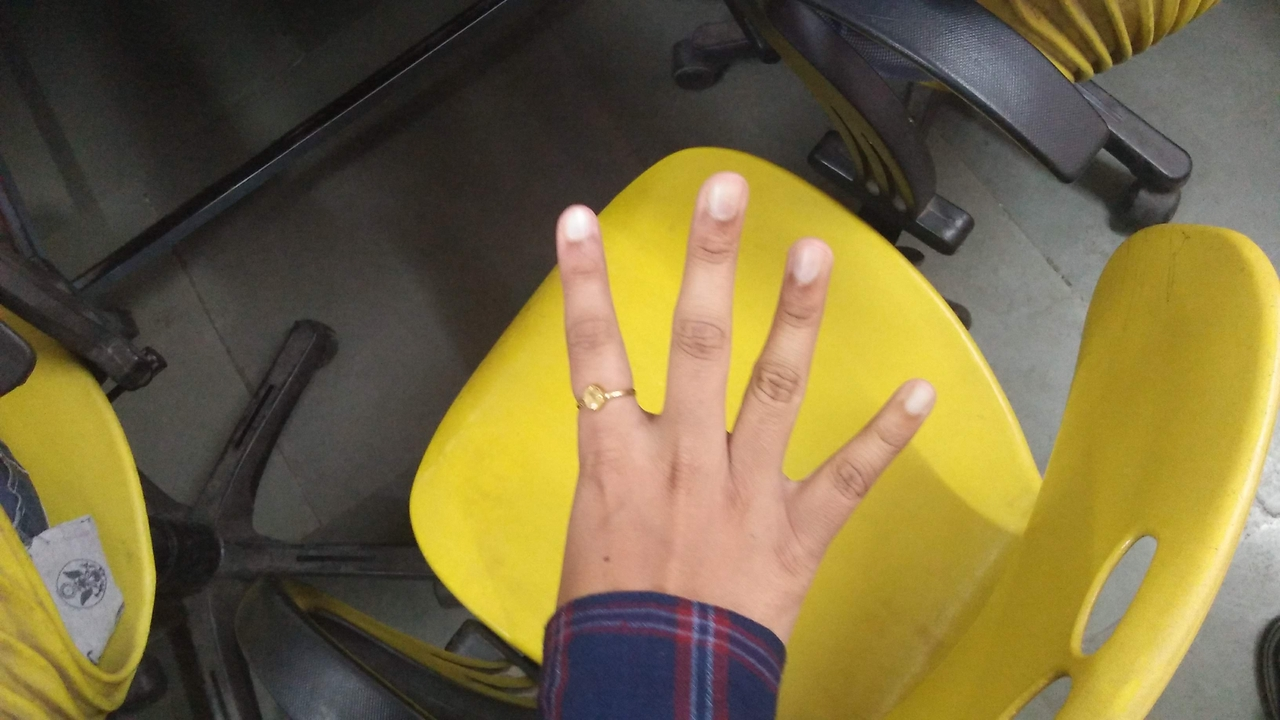fingertip: (690, 162, 758, 232), (776, 230, 842, 294), (880, 368, 946, 430), (550, 198, 610, 262)
